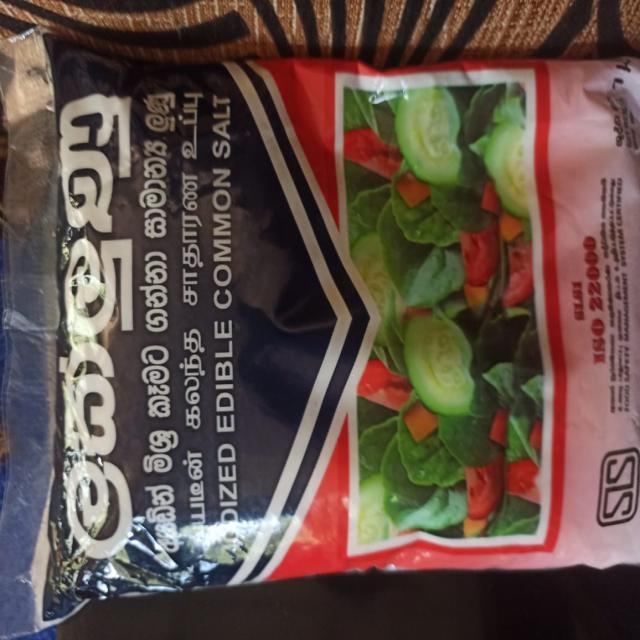Chilli Powder: (1, 31, 640, 640)
